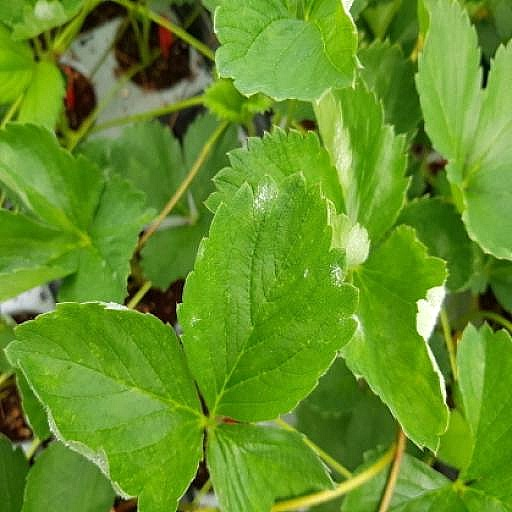Powdery Mildew Leaf: (150, 170, 337, 423), (306, 299, 510, 511), (62, 224, 173, 458), (143, 123, 308, 268), (98, 72, 200, 253)
